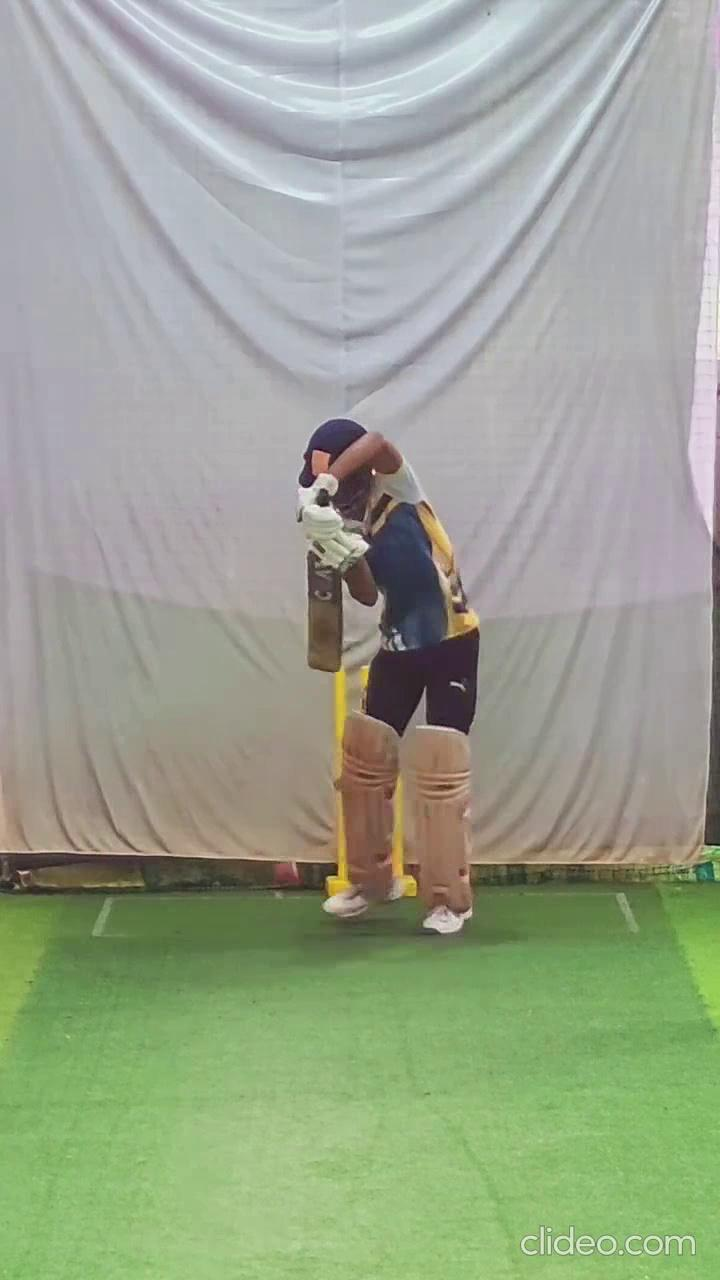bat: (305, 550, 343, 676)
